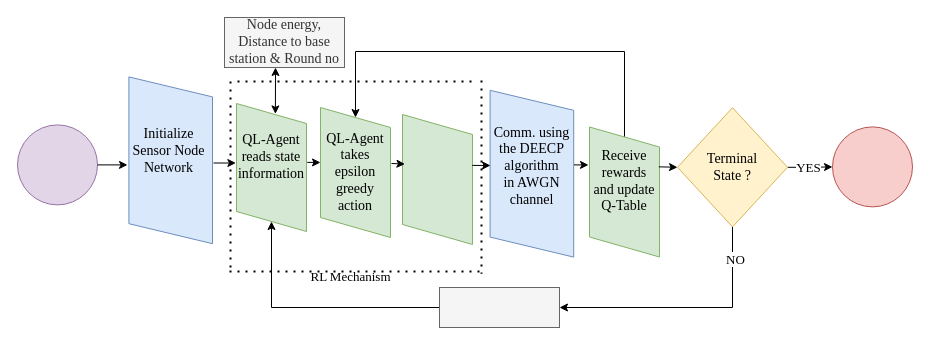
Some shapes in this 930 by 345 pixel diagram are drawn without their labels. The shapes that lost their labels are listed below. From the top down, each one's centre as x and y in pixels, then its label:
the point at 57,164: START
the point at 437,179: Select CH and make near by nodes as CM
the point at 872,166: END
the point at 499,307: Round++
